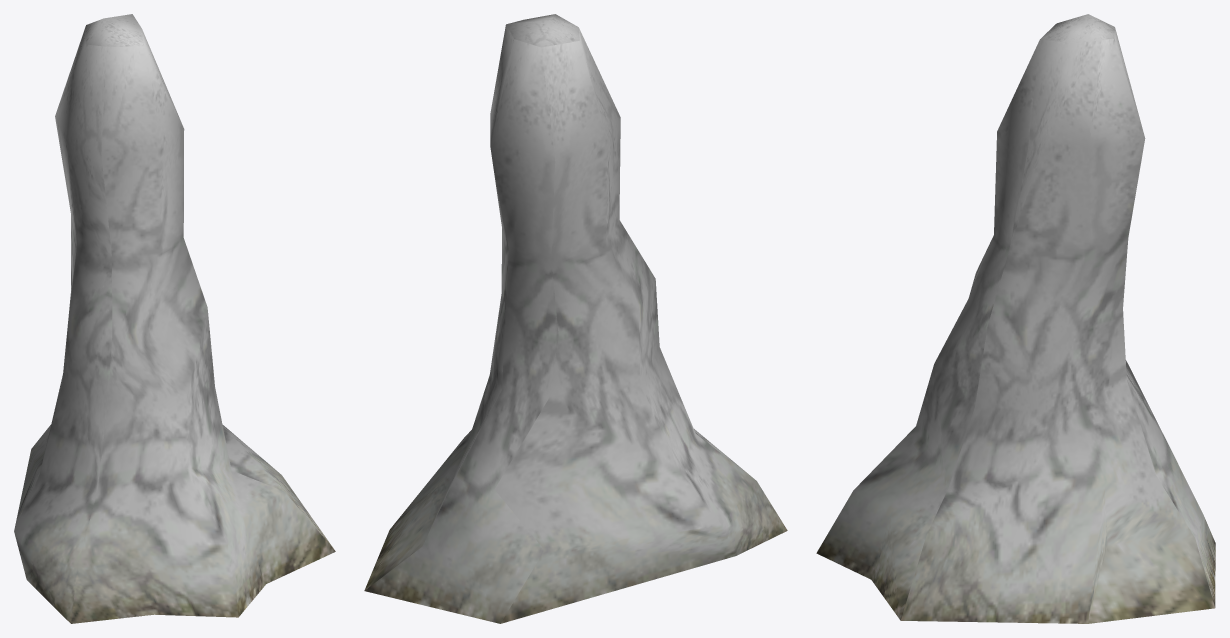
Rendered from general_obj_bigstone01.fbx.
3 views of the same model, side by side, from view 1: azimuth 30°, elevation 25°; view 2: azimuth 150°, elevation 25°; view 3: azimuth 270°, elevation 25° (orthographic). The views are drawn at different scales.
Parts seen in each view (by area): view 1: Sphere01; view 2: Sphere01; view 3: Sphere01.
Part boxes in pixels (x1,y1,x2,y2): Sphere01: [14, 14, 335, 623]; Sphere01: [364, 14, 787, 623]; Sphere01: [816, 14, 1215, 623].
Bounding box in the file's own units: 19.08 × 33.9 × 22.83.
